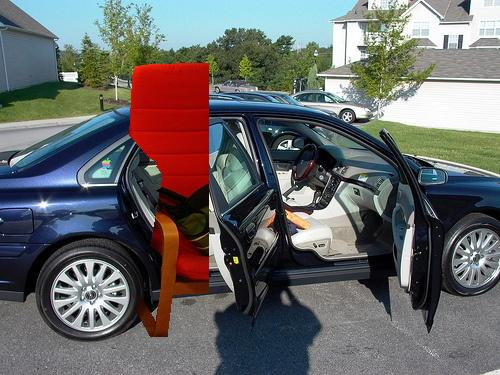tampered: (130, 64, 209, 337)
